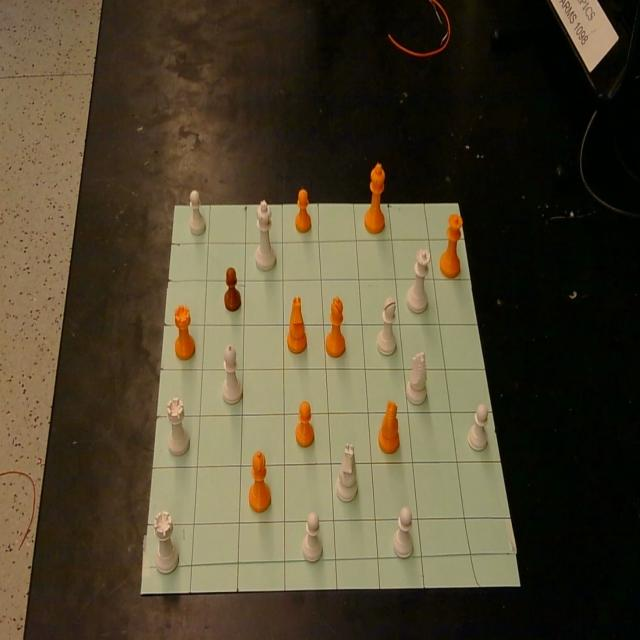orange_bishop: (248, 450, 272, 512), (326, 296, 346, 357)
orange_king: (364, 162, 385, 233)
orange_knight: (286, 296, 308, 354), (378, 400, 400, 454)
orange_pawn: (296, 400, 315, 447), (295, 187, 312, 232), (224, 266, 241, 311)
orange_queen: (440, 214, 463, 278)
orange_rook: (174, 304, 195, 360)
white_bishop: (376, 296, 397, 356), (222, 345, 243, 404)
white_king: (255, 201, 276, 270)
white_knight: (335, 443, 357, 501), (406, 351, 428, 404)
white_pawn: (392, 506, 413, 558), (467, 403, 489, 450), (302, 512, 322, 562), (188, 188, 206, 234)
white_queen: (406, 249, 429, 313)
white_rook: (153, 510, 178, 573), (166, 397, 190, 456)
